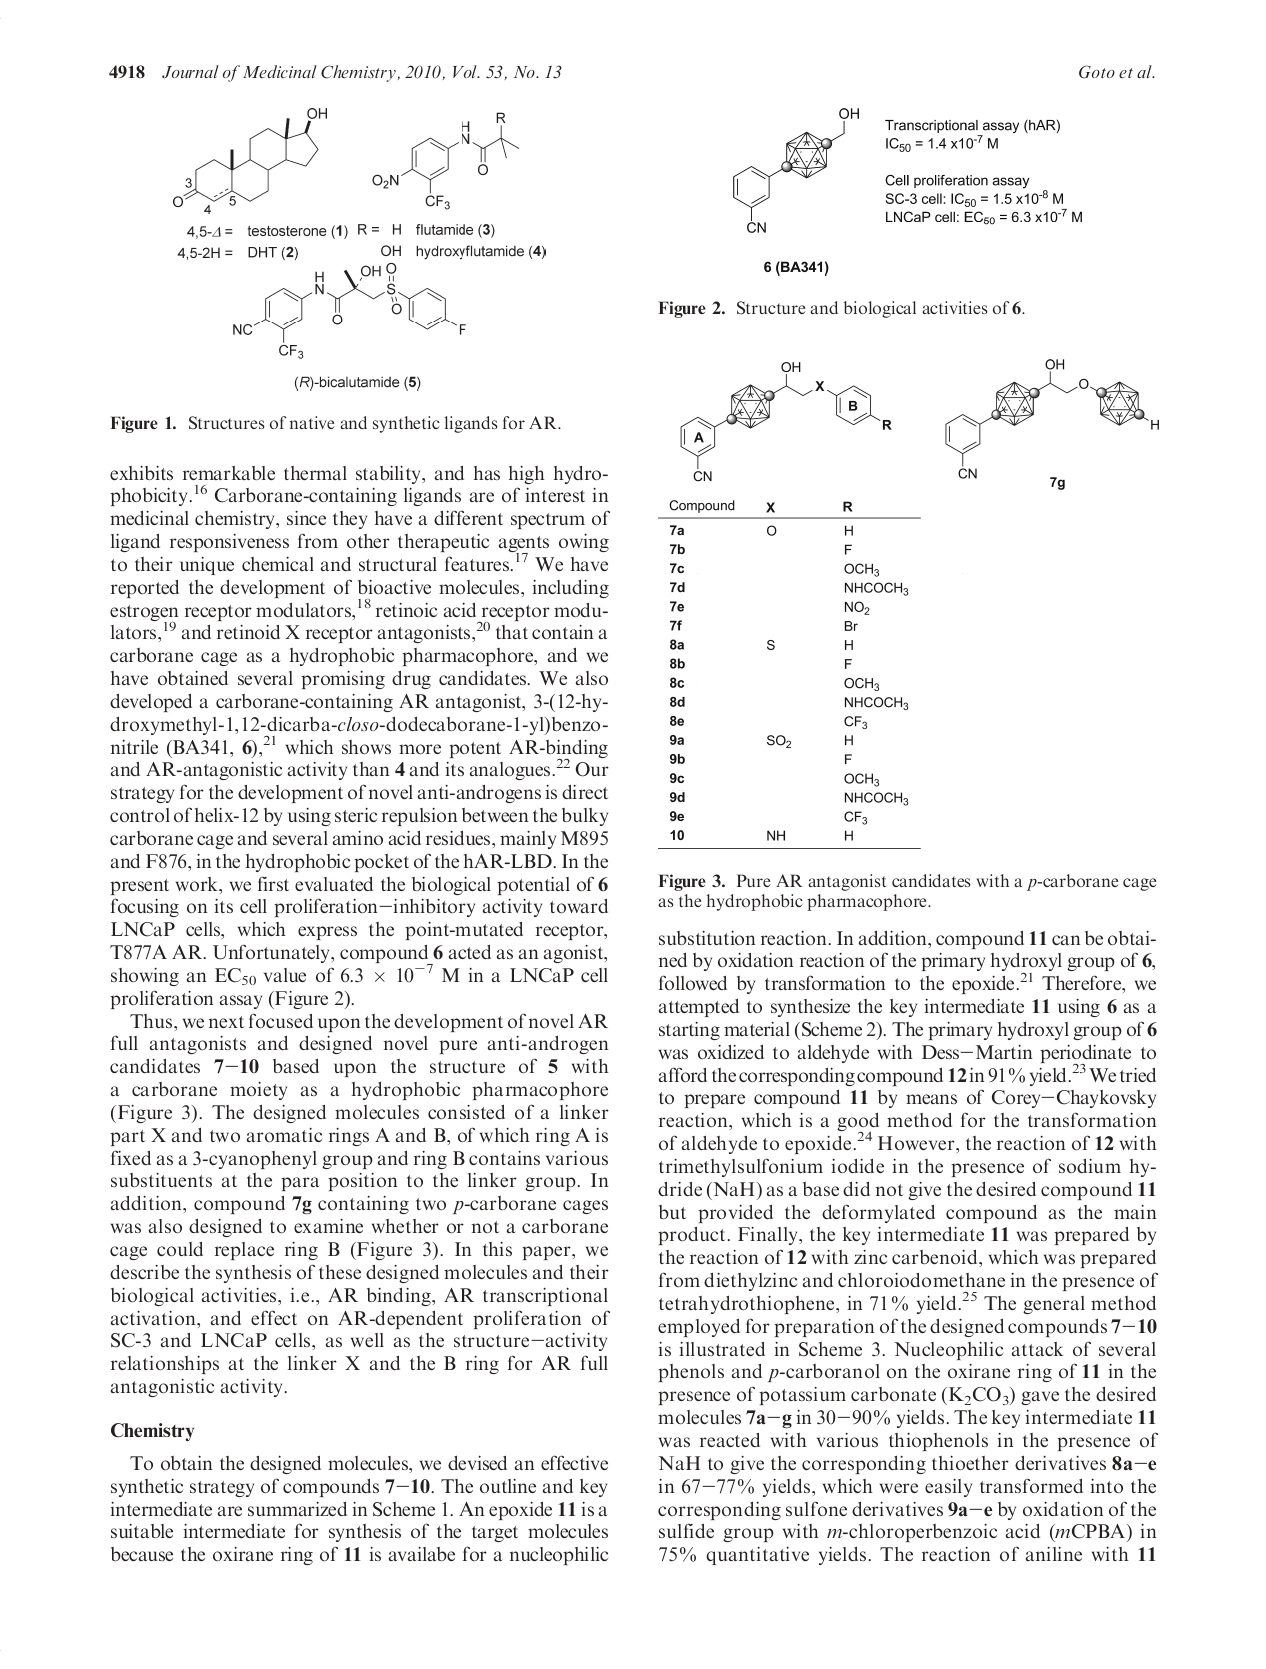exist_molecular: (944, 354, 1161, 480), (678, 355, 894, 481), (231, 263, 469, 359), (731, 102, 863, 235), (172, 105, 328, 215), (368, 106, 521, 211)
